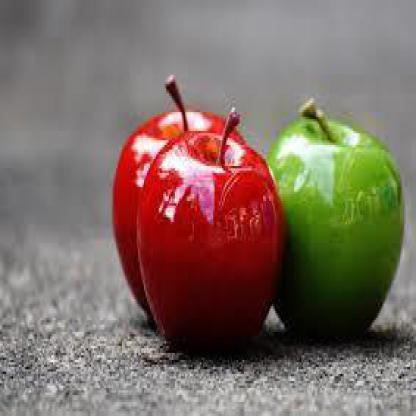apple: (138, 106, 285, 347)
